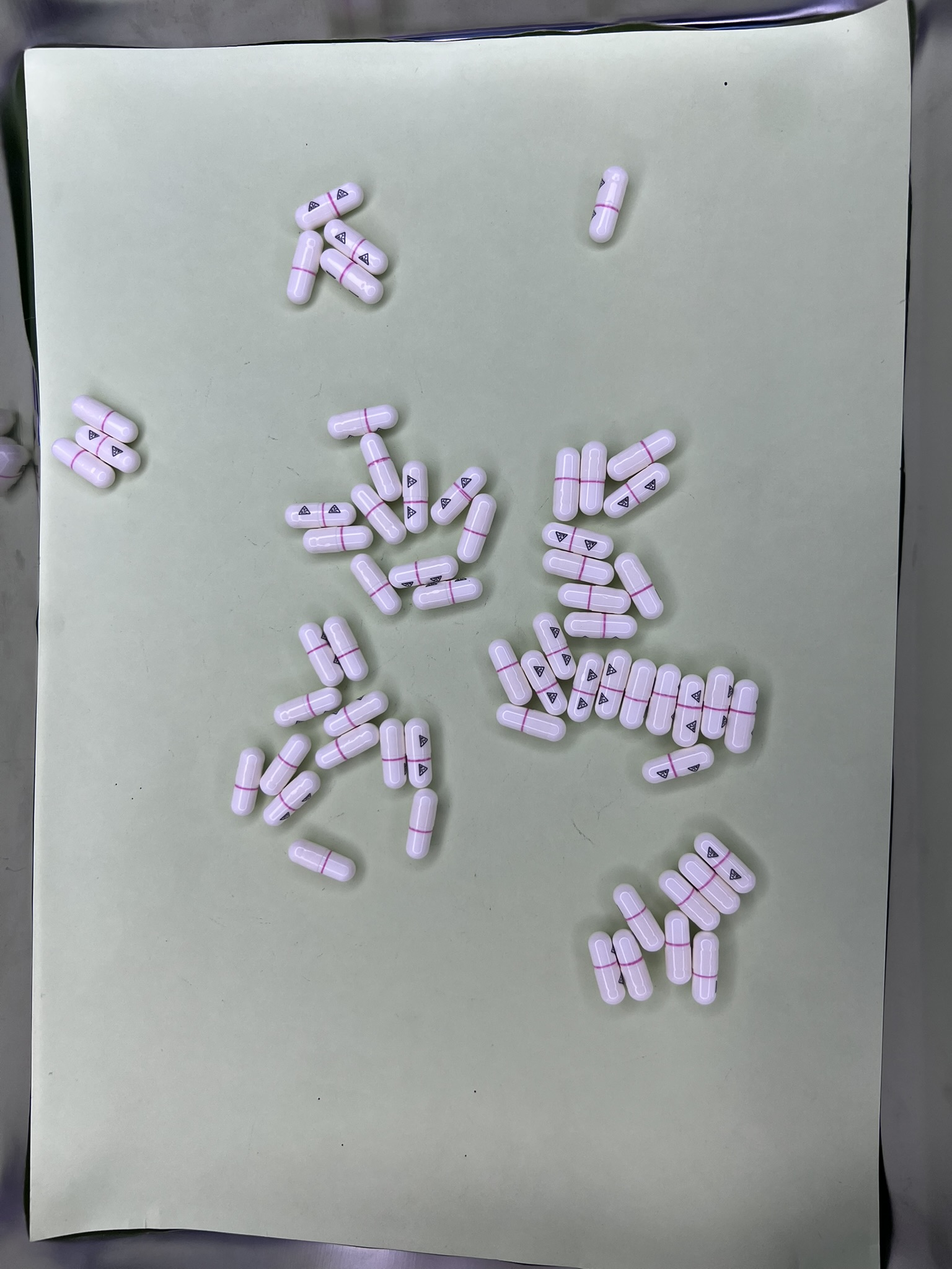Capsule: (677, 852, 741, 915), (319, 247, 385, 307), (693, 832, 756, 894), (322, 218, 387, 278), (660, 870, 721, 932), (431, 465, 488, 528), (606, 429, 675, 481), (352, 483, 408, 546), (604, 464, 668, 519), (614, 884, 665, 952), (295, 181, 364, 231), (616, 552, 665, 622), (74, 424, 141, 475), (71, 395, 139, 445), (51, 437, 115, 490), (263, 769, 320, 827), (349, 553, 402, 615), (259, 735, 312, 797), (315, 722, 380, 771), (533, 612, 578, 682), (639, 743, 715, 784), (323, 617, 369, 683), (298, 622, 344, 687), (589, 166, 628, 242), (323, 693, 387, 739), (360, 434, 403, 502), (613, 929, 653, 1002), (489, 640, 532, 707), (521, 651, 565, 716), (497, 704, 568, 744), (289, 840, 355, 883), (287, 229, 324, 305), (458, 492, 497, 564), (274, 687, 342, 728), (588, 930, 625, 1005), (543, 549, 615, 586), (541, 522, 615, 558), (568, 650, 606, 720), (645, 666, 681, 738), (620, 658, 656, 729), (388, 556, 458, 592), (726, 679, 759, 754), (672, 675, 706, 747), (327, 405, 396, 440), (701, 667, 734, 740), (597, 651, 632, 719), (412, 578, 484, 611), (558, 583, 629, 616), (406, 790, 438, 863), (231, 748, 264, 818), (563, 610, 637, 641), (579, 442, 608, 517), (664, 912, 692, 989), (692, 930, 720, 1007), (401, 461, 430, 535), (286, 501, 359, 530), (404, 717, 433, 788), (553, 448, 580, 522), (379, 719, 407, 789), (303, 526, 372, 554)
